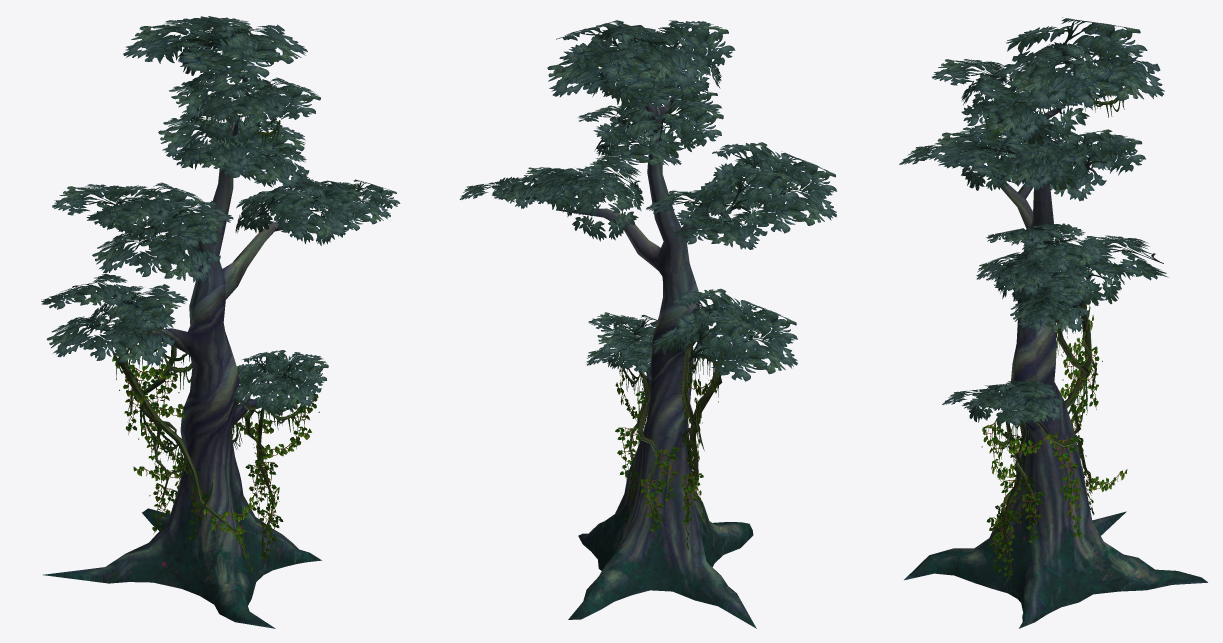
File: shenshu_a.FBX
3 renders of one model, left to right at view 1: azimuth 30°, elevation 25°; view 2: azimuth 150°, elevation 25°; view 3: azimuth 270°, elevation 25°, orthographic. The views are drawn at different scales.
Parts seen in each view (by area): view 1: environment_Tree_dashu_001_b; view 2: environment_Tree_dashu_001_b; view 3: environment_Tree_dashu_001_b.
Boxes of the visible parts, bbox=[...] form: environment_Tree_dashu_001_b: bbox=[41, 16, 400, 628]; environment_Tree_dashu_001_b: bbox=[459, 20, 836, 628]; environment_Tree_dashu_001_b: bbox=[899, 17, 1207, 628].
Size of the model in its own units: 698 by 966 by 495.
